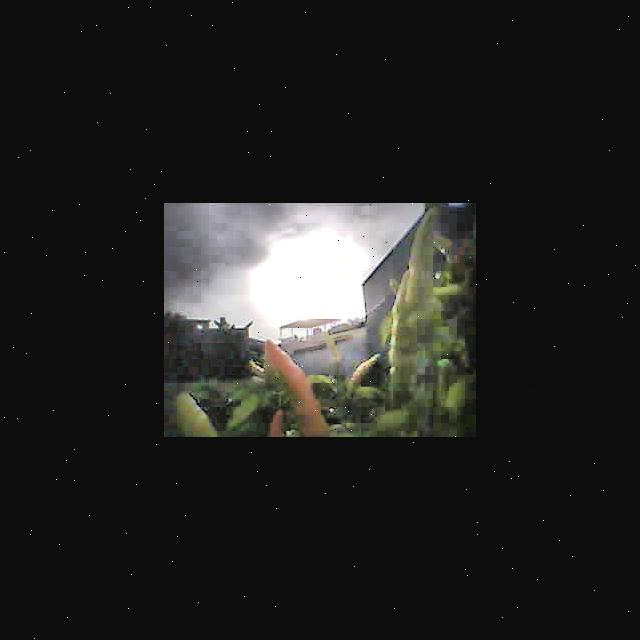Cabai: (266, 346, 333, 437)
